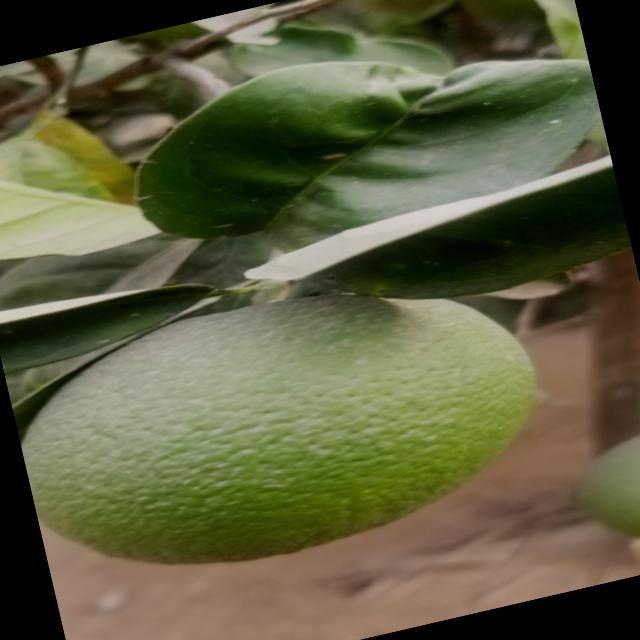agrume: (0, 241, 559, 602)
